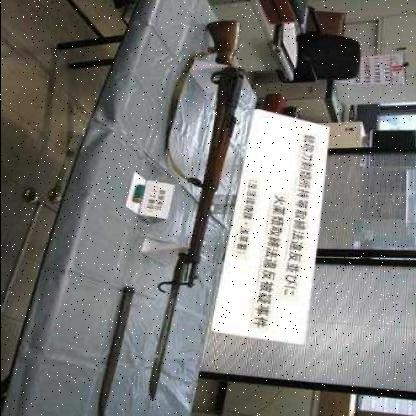rifle: (166, 20, 249, 294)
